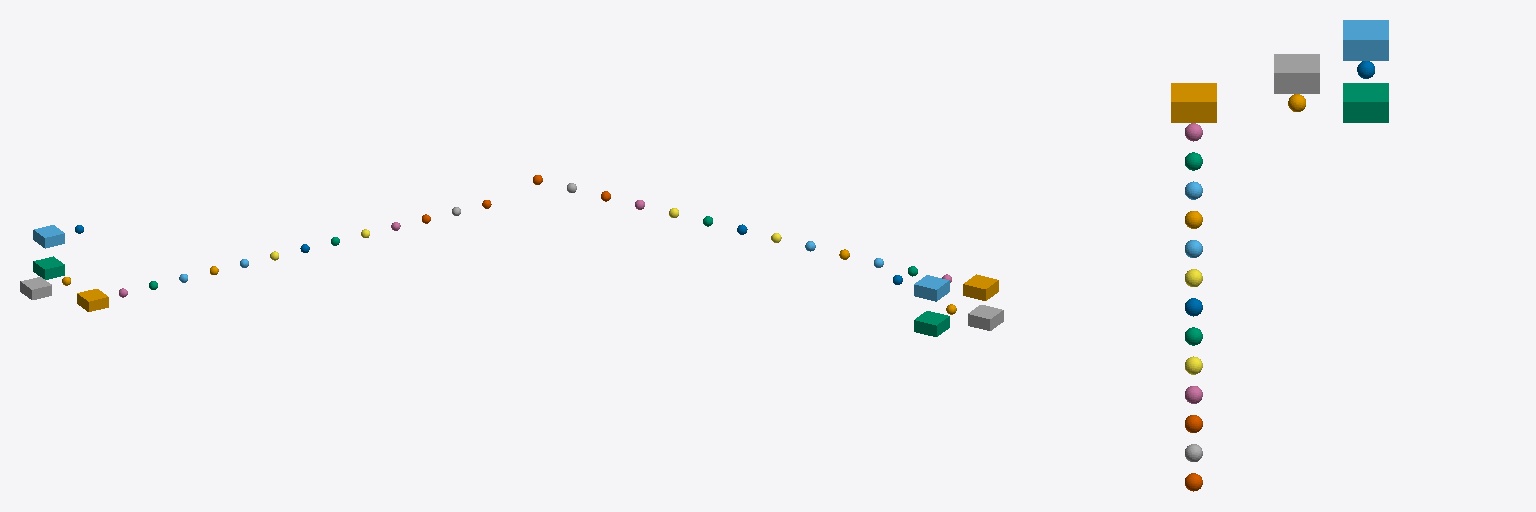
robot.urdf — force_reflecting_teleoperation_with_shared_compliance_control:
<?xml version="1.0" ?>
<robot name="force_reflecting_teleoperation_with_shared_compliance_control">
  <link name="actual_position_signal">
    <visual>
      <geometry>
        <sphere radius="0.008"/>
      </geometry>
    </visual>
  </link>
  <link name="actual_servo_control_signal">
    <visual>
      <geometry>
        <sphere radius="0.008"/>
      </geometry>
    </visual>
  </link>
  <link name="commanded_position_signal_hc">
    <visual>
      <geometry>
        <sphere radius="0.008"/>
      </geometry>
    </visual>
  </link>
  <link name="compliance_control_feedback_gain">
    <visual>
      <geometry>
        <sphere radius="0.008"/>
      </geometry>
    </visual>
  </link>
  <link name="contact_force_signal">
    <visual>
      <geometry>
        <sphere radius="0.008"/>
      </geometry>
    </visual>
  </link>
  <link name="following_commanded_position_signal">
    <visual>
      <geometry>
        <sphere radius="0.008"/>
      </geometry>
    </visual>
  </link>
  <link name="force_reflection_signal">
    <visual>
      <geometry>
        <sphere radius="0.008"/>
      </geometry>
    </visual>
  </link>
  <link name="gain_gps">
    <visual>
      <geometry>
        <sphere radius="0.008"/>
      </geometry>
    </visual>
  </link>
  <link name="hand_controller">
    <visual>
      <geometry>
        <box size="0.04 0.04 0.02"/>
      </geometry>
    </visual>
  </link>
  <link name="low_pass_filter">
    <visual>
      <geometry>
        <box size="0.04 0.04 0.02"/>
      </geometry>
    </visual>
  </link>
  <link name="low_pass_filtered_contact_force_signal">
    <visual>
      <geometry>
        <sphere radius="0.008"/>
      </geometry>
    </visual>
  </link>
  <link name="means_producing_force_reflection">
    <visual>
      <geometry>
        <sphere radius="0.008"/>
      </geometry>
    </visual>
  </link>
  <link name="means_sensing_contact_force">
    <visual>
      <geometry>
        <sphere radius="0.008"/>
      </geometry>
    </visual>
  </link>
  <link name="means_transmitting_force_reflection">
    <visual>
      <geometry>
        <sphere radius="0.008"/>
      </geometry>
    </visual>
  </link>
  <link name="means_transmitting_hc">
    <visual>
      <geometry>
        <sphere radius="0.008"/>
      </geometry>
    </visual>
  </link>
  <link name="robot_arm">
    <visual>
      <geometry>
        <box size="0.04 0.04 0.02"/>
      </geometry>
    </visual>
  </link>
  <link name="robot_servo_system">
    <visual>
      <geometry>
        <sphere radius="0.008"/>
      </geometry>
    </visual>
  </link>
  <link name="servo_control_input_signal">
    <visual>
      <geometry>
        <sphere radius="0.008"/>
      </geometry>
    </visual>
  </link>
  <link name="signal_mixer">
    <visual>
      <geometry>
        <box size="0.04 0.04 0.02"/>
      </geometry>
    </visual>
  </link>
  <joint name="_attach_low_pass_filter_to_means_sensing_contact_force" type="fixed">
    <parent link="low_pass_filter"/>
    <child link="means_sensing_contact_force"/>
    <origin xyz="0.0600 0.0000 0.0000" rpy="0 0 0"/>
  </joint>
  <joint name="_attach_robot_arm_to_actual_position_signal" type="fixed">
    <parent link="robot_arm"/>
    <child link="actual_position_signal"/>
    <origin xyz="0.3000 -0.0900 0.0000" rpy="0 0 0"/>
  </joint>
  <joint name="_attach_robot_arm_to_actual_servo_control_signal" type="fixed">
    <parent link="robot_arm"/>
    <child link="actual_servo_control_signal"/>
    <origin xyz="0.3600 -0.0900 0.0000" rpy="0 0 0"/>
  </joint>
  <joint name="_attach_robot_arm_to_commanded_position_signal_hc" type="fixed">
    <parent link="robot_arm"/>
    <child link="commanded_position_signal_hc"/>
    <origin xyz="0.1800 -0.0900 0.0000" rpy="0 0 0"/>
  </joint>
  <joint name="_attach_robot_arm_to_compliance_control_feedback_gain" type="fixed">
    <parent link="robot_arm"/>
    <child link="compliance_control_feedback_gain"/>
    <origin xyz="0.4200 -0.0900 0.0000" rpy="0 0 0"/>
  </joint>
  <joint name="_attach_robot_arm_to_contact_force_signal" type="fixed">
    <parent link="robot_arm"/>
    <child link="contact_force_signal"/>
    <origin xyz="0.4800 -0.0900 0.0000" rpy="0 0 0"/>
  </joint>
  <joint name="_attach_robot_arm_to_following_commanded_position_signal" type="fixed">
    <parent link="robot_arm"/>
    <child link="following_commanded_position_signal"/>
    <origin xyz="0.8400 -0.0900 0.0000" rpy="0 0 0"/>
  </joint>
  <joint name="_attach_robot_arm_to_force_reflection_signal" type="fixed">
    <parent link="robot_arm"/>
    <child link="force_reflection_signal"/>
    <origin xyz="0.6600 -0.0900 0.0000" rpy="0 0 0"/>
  </joint>
  <joint name="_attach_robot_arm_to_gain_gps" type="fixed">
    <parent link="robot_arm"/>
    <child link="gain_gps"/>
    <origin xyz="0.7800 -0.0900 0.0000" rpy="0 0 0"/>
  </joint>
  <joint name="_attach_robot_arm_to_hand_controller" type="fixed">
    <parent link="robot_arm"/>
    <child link="hand_controller"/>
    <origin xyz="0.0600 -0.0900 0.0000" rpy="0 0 0"/>
  </joint>
  <joint name="_attach_robot_arm_to_low_pass_filtered_contact_force_signal" type="fixed">
    <parent link="robot_arm"/>
    <child link="low_pass_filtered_contact_force_signal"/>
    <origin xyz="0.5400 -0.0900 0.0000" rpy="0 0 0"/>
  </joint>
  <joint name="_attach_robot_arm_to_means_producing_force_reflection" type="fixed">
    <parent link="robot_arm"/>
    <child link="means_producing_force_reflection"/>
    <origin xyz="0.6000 -0.0900 0.0000" rpy="0 0 0"/>
  </joint>
  <joint name="_attach_robot_arm_to_means_transmitting_force_reflection" type="fixed">
    <parent link="robot_arm"/>
    <child link="means_transmitting_force_reflection"/>
    <origin xyz="0.7200 -0.0900 0.0000" rpy="0 0 0"/>
  </joint>
  <joint name="_attach_robot_arm_to_means_transmitting_hc" type="fixed">
    <parent link="robot_arm"/>
    <child link="means_transmitting_hc"/>
    <origin xyz="0.1200 -0.0900 0.0000" rpy="0 0 0"/>
  </joint>
  <joint name="_attach_robot_arm_to_robot_servo_system" type="fixed">
    <parent link="robot_arm"/>
    <child link="robot_servo_system"/>
    <origin xyz="0.0600 0.0000 0.0000" rpy="0 0 0"/>
  </joint>
  <joint name="_attach_robot_arm_to_servo_control_input_signal" type="fixed">
    <parent link="robot_arm"/>
    <child link="servo_control_input_signal"/>
    <origin xyz="0.2400 -0.0900 0.0000" rpy="0 0 0"/>
  </joint>
  <joint name="_attach_robot_servo_system_to_signal_mixer" type="fixed">
    <parent link="robot_servo_system"/>
    <child link="signal_mixer"/>
    <origin xyz="0.0000 0.0600 0.0000" rpy="0 0 0"/>
  </joint>
  <joint name="_attach_signal_mixer_to_low_pass_filter" type="fixed">
    <parent link="signal_mixer"/>
    <child link="low_pass_filter"/>
    <origin xyz="0.0000 0.0000 0.0600" rpy="0 0 0"/>
  </joint>
</robot>

--- Render facts (derived) ---
Views: 3 orthographic renders of the robot side by side, from view 1: azimuth 30°, elevation 25°; view 2: azimuth 150°, elevation 25°; view 3: azimuth 270°, elevation 25°.
Robot: force_reflecting_teleoperation_with_shared_compliance_control — 19 links, 18 joints (18 fixed); root link robot_arm; default pose: all joints at 0.
Links seen in each view (by area): view 1: hand_controller, robot_arm, low_pass_filter, signal_mixer; view 2: robot_arm, signal_mixer, low_pass_filter, hand_controller; view 3: low_pass_filter, hand_controller, robot_arm, signal_mixer.
Boxes of the visible links, bbox=[...] form: hand_controller: bbox=[77, 289, 108, 311]; robot_arm: bbox=[20, 277, 51, 299]; low_pass_filter: bbox=[33, 225, 64, 248]; signal_mixer: bbox=[33, 256, 64, 279]; robot_arm: bbox=[968, 305, 1003, 330]; signal_mixer: bbox=[914, 311, 949, 336]; low_pass_filter: bbox=[914, 275, 949, 301]; hand_controller: bbox=[963, 274, 998, 300]; low_pass_filter: bbox=[1343, 20, 1388, 60]; hand_controller: bbox=[1171, 83, 1216, 122]; robot_arm: bbox=[1274, 54, 1319, 93]; signal_mixer: bbox=[1343, 83, 1388, 122].
Size in the robot's own frame: 0.868 by 0.19 by 0.08 metres.
Geometry: primitives only (box / cylinder / sphere), no mesh files.
